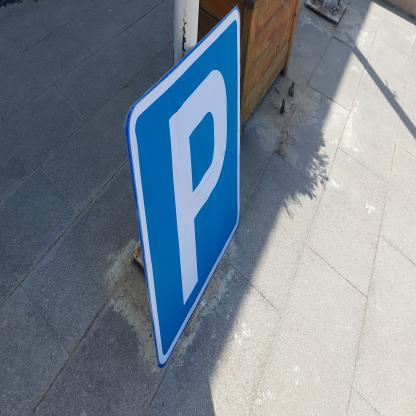parking: (123, 2, 242, 382)
